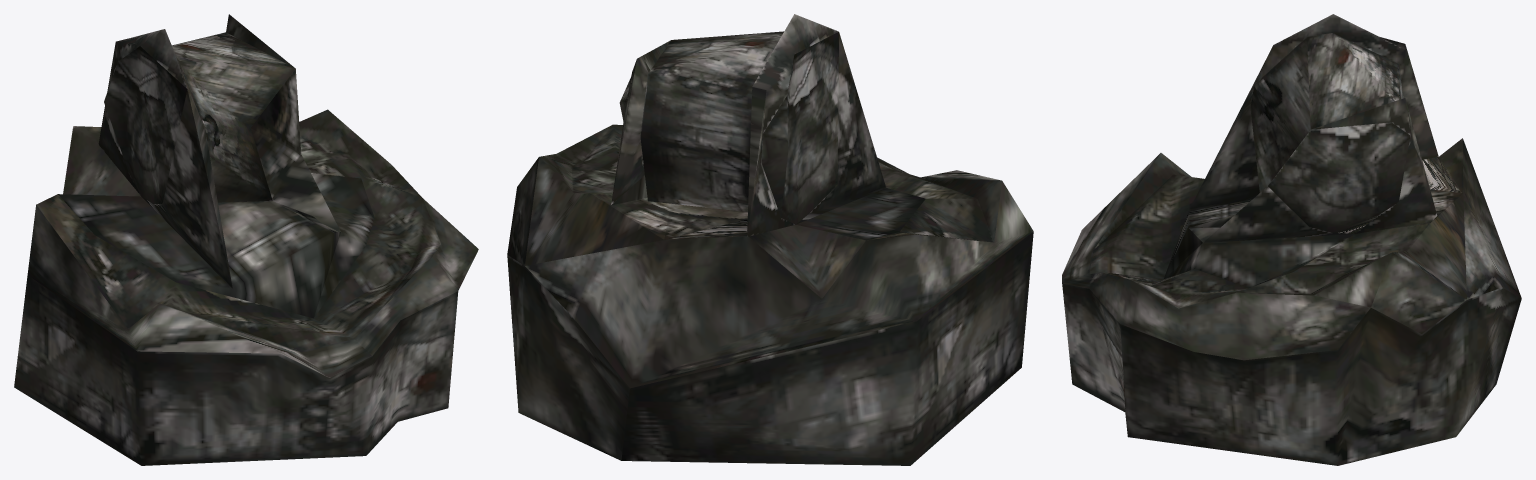
Rendered from corellian_corvette_turret_large_base_s01_destroyed_l1.fbx.
3 views of the same model, side by side, from view 1: azimuth 30°, elevation 25°; view 2: azimuth 150°, elevation 25°; view 3: azimuth 270°, elevation 25° (orthographic). The views are drawn at different scales.
Parts seen in each view (by area): view 1: mesh_node; view 2: mesh_node; view 3: mesh_node.
Boxes of the visible parts, x1,y1,x2,y2 form: mesh_node: [14, 14, 478, 465]; mesh_node: [507, 14, 1033, 465]; mesh_node: [1062, 14, 1521, 465].
Bounding box in the file's own units: 13.36 × 11.98 × 14.76.
